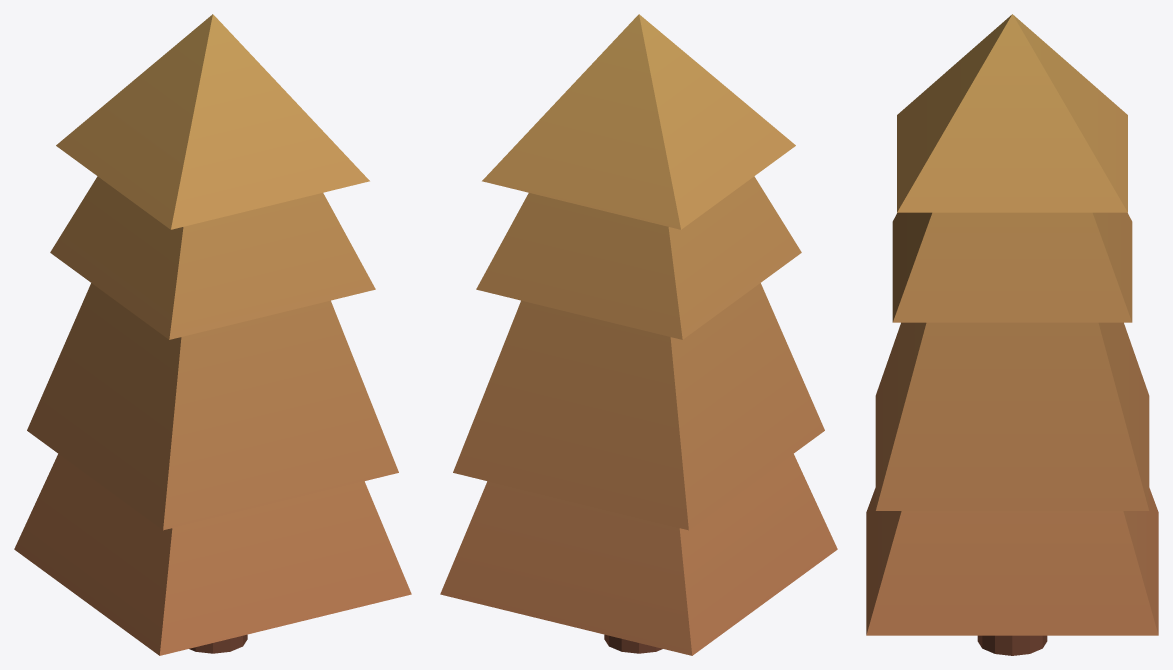
File: Tree_17_gradient_yellow_vc.fbx
3 renders of one model, left to right at view 1: azimuth 30°, elevation 25°; view 2: azimuth 150°, elevation 25°; view 3: azimuth 270°, elevation 25°, orthographic.
Parts seen in each view (by area): view 1: Tree_17_gradient_yellow_vc; view 2: Tree_17_gradient_yellow_vc; view 3: Tree_17_gradient_yellow_vc.
Part boxes in pixels (x1=…): Tree_17_gradient_yellow_vc: x1=14, y1=14, x2=411, y2=655; Tree_17_gradient_yellow_vc: x1=440, y1=14, x2=837, y2=655; Tree_17_gradient_yellow_vc: x1=866, y1=14, x2=1158, y2=655.
Size of the model in its own units: 65.5 by 155 by 65.5.
